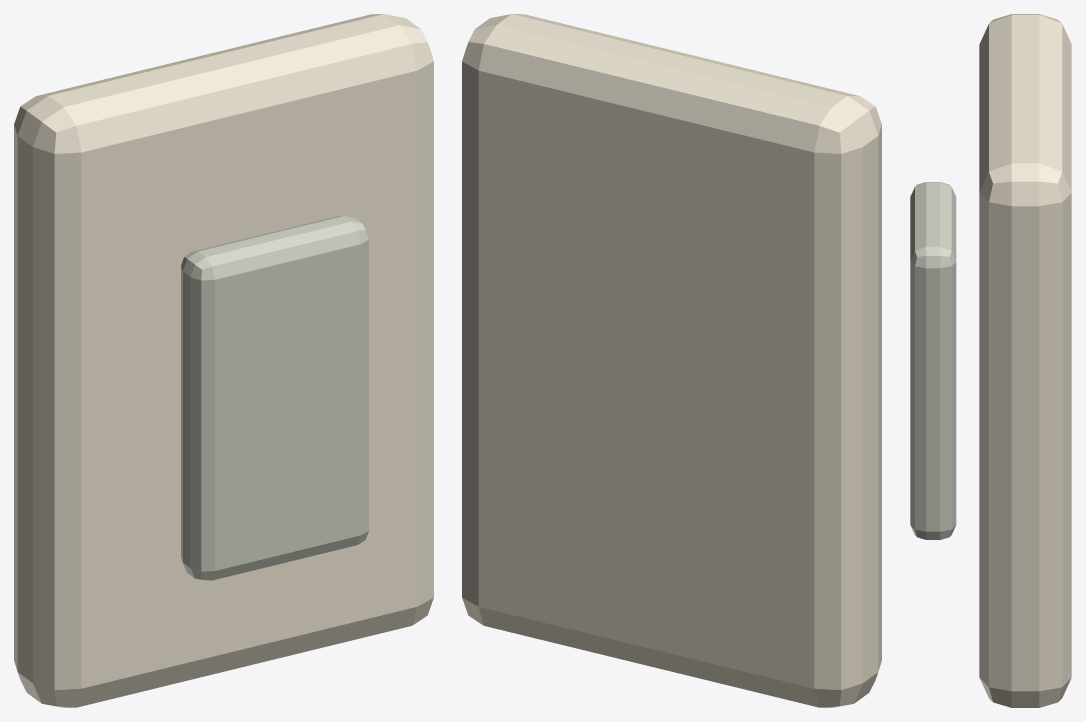
The model's file is light_switch.glb.
3 views of the same model, side by side, from view 1: azimuth 30°, elevation 25°; view 2: azimuth 150°, elevation 25°; view 3: azimuth 270°, elevation 25° (orthographic). The views are drawn at different scales.
Visible parts, largest first — view 1: light_switch_Mesh; view 2: light_switch_Mesh; view 3: light_switch_Mesh.
Part boxes in pixels (bbox=[...]): light_switch_Mesh: bbox=[14, 14, 433, 707]; light_switch_Mesh: bbox=[462, 14, 881, 707]; light_switch_Mesh: bbox=[910, 14, 1071, 707].
Bounding box in the file's own units: 0.09 × 0.13 × 0.035.
